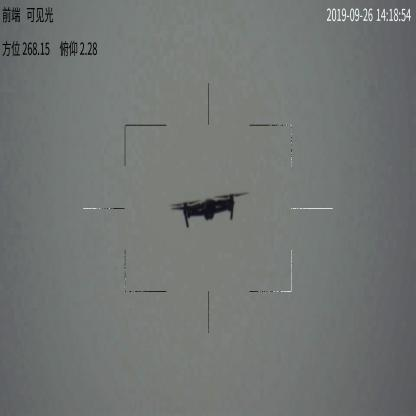uav: (168, 190, 245, 228)
